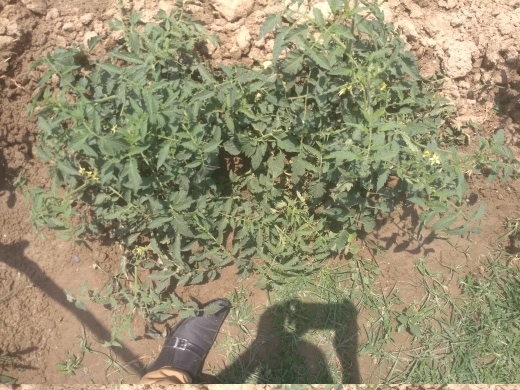tomato flower: (132, 239, 156, 259), (75, 166, 98, 183), (422, 147, 440, 167), (107, 122, 125, 135)
tomato plant: (59, 46, 448, 236)
